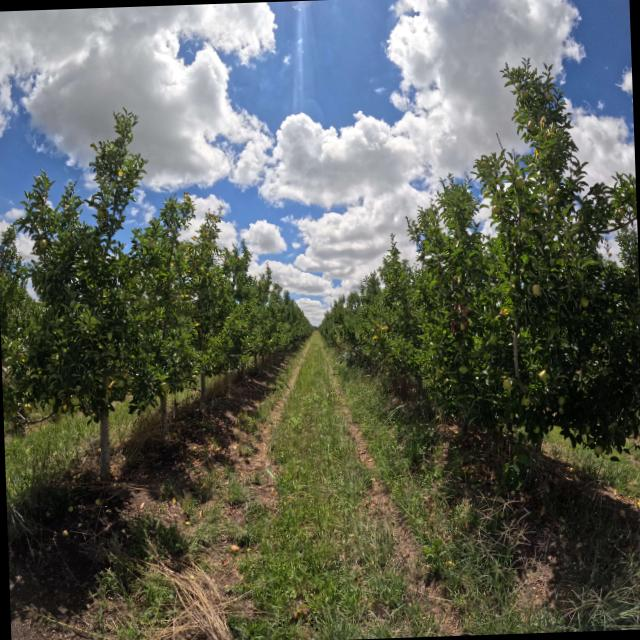-FireBlight-: (450, 305, 471, 334), (450, 303, 456, 311), (450, 291, 456, 297), (457, 304, 461, 312), (465, 296, 469, 303)
